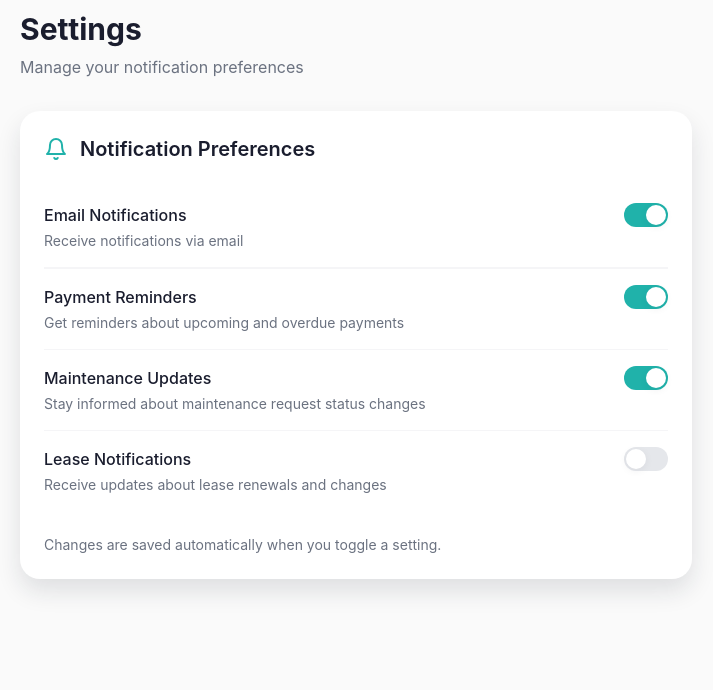
Test case: TenantSettingsPage › Save Feedback › should show success message after saving
The width and height of the screenshot is (713, 690).
Click the switch named "email notifications".
click(646, 215)  # box [624,203,668,227]
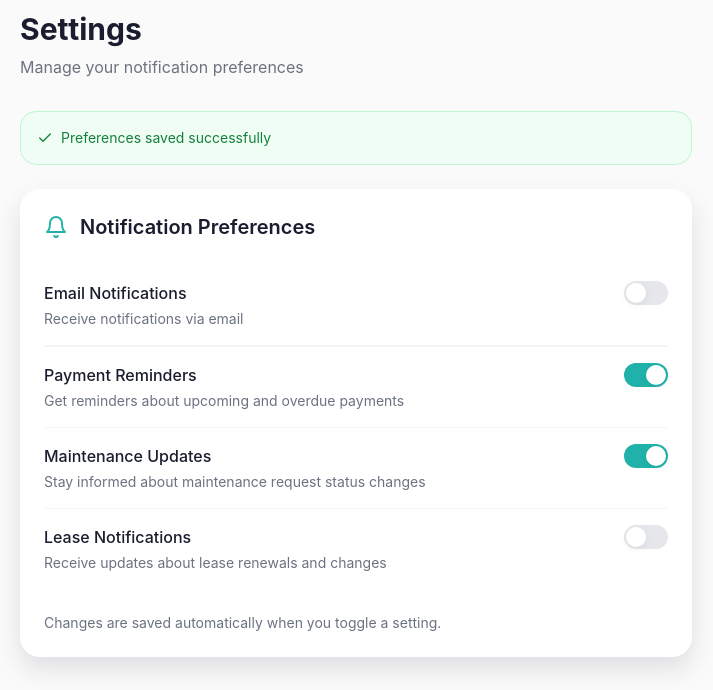
Expected: the text "Preferences saved successfully" is shown, [37,129,271,146]
